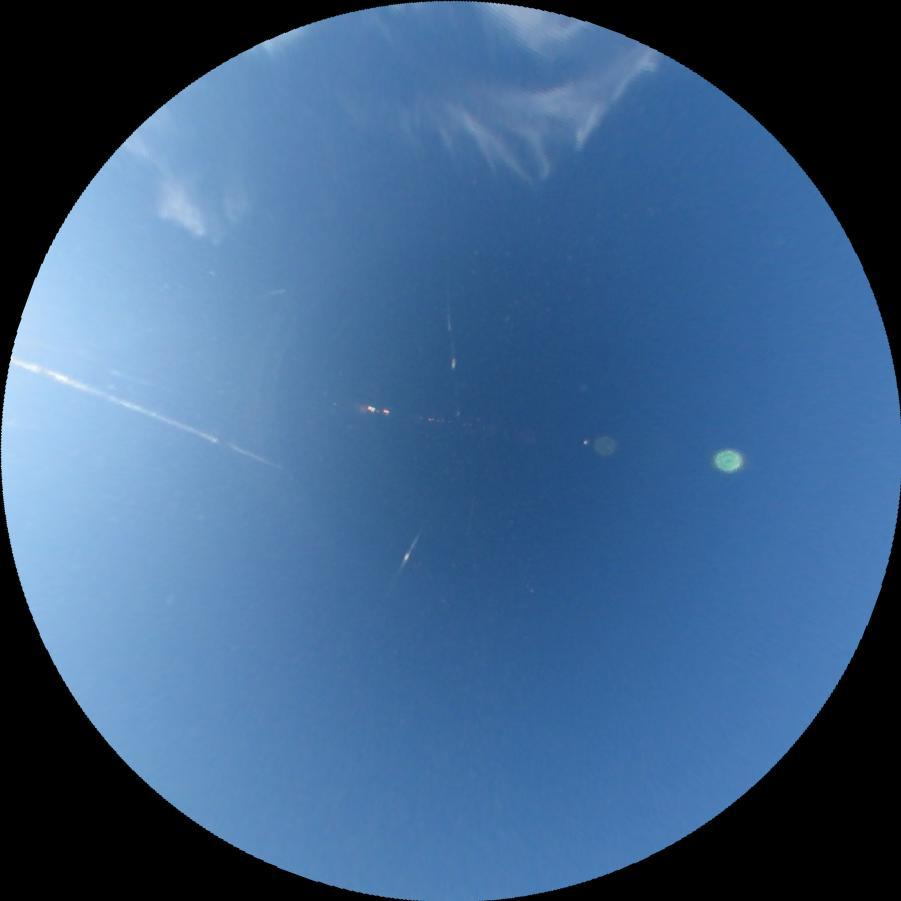parasite: (8, 353, 284, 470), (442, 300, 460, 416), (389, 528, 421, 587)
